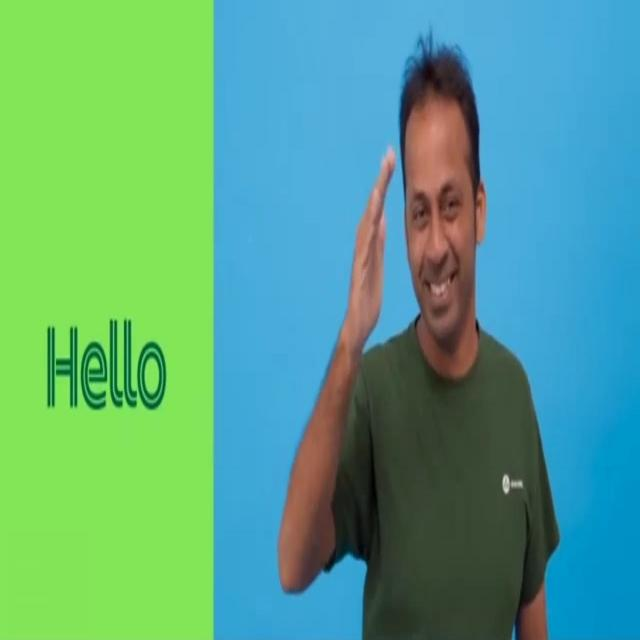Hello: (280, 44, 552, 640)
